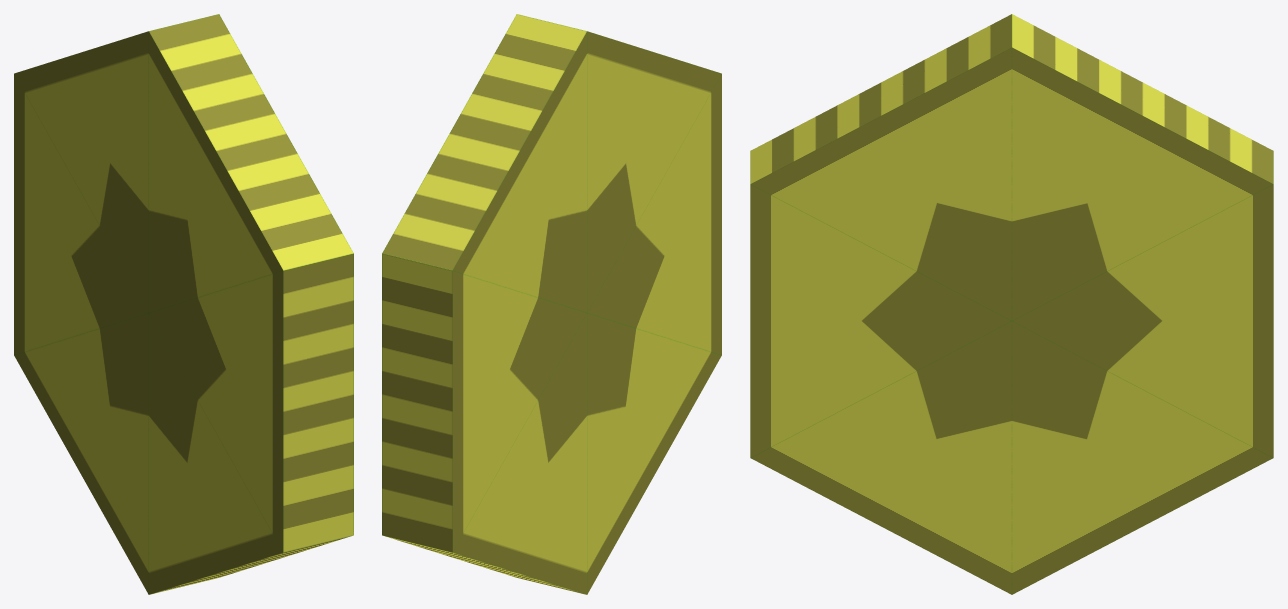
File: Coin.fbx
The picture shows the model from 3 angles, left to right: view 1: azimuth 30°, elevation 25°; view 2: azimuth 150°, elevation 25°; view 3: azimuth 270°, elevation 25°; orthographic projection. The views are drawn at different scales.
Parts seen in each view (by area): view 1: pCylinder1; view 2: pCylinder1; view 3: pCylinder1.
Boxes of the visible parts, x1,y1,x2,y2 form: pCylinder1: (14,14,353,594); pCylinder1: (382,14,721,594); pCylinder1: (750,14,1273,594).
Bounding box in the file's own units: 0.2615 × 2 × 1.73.
